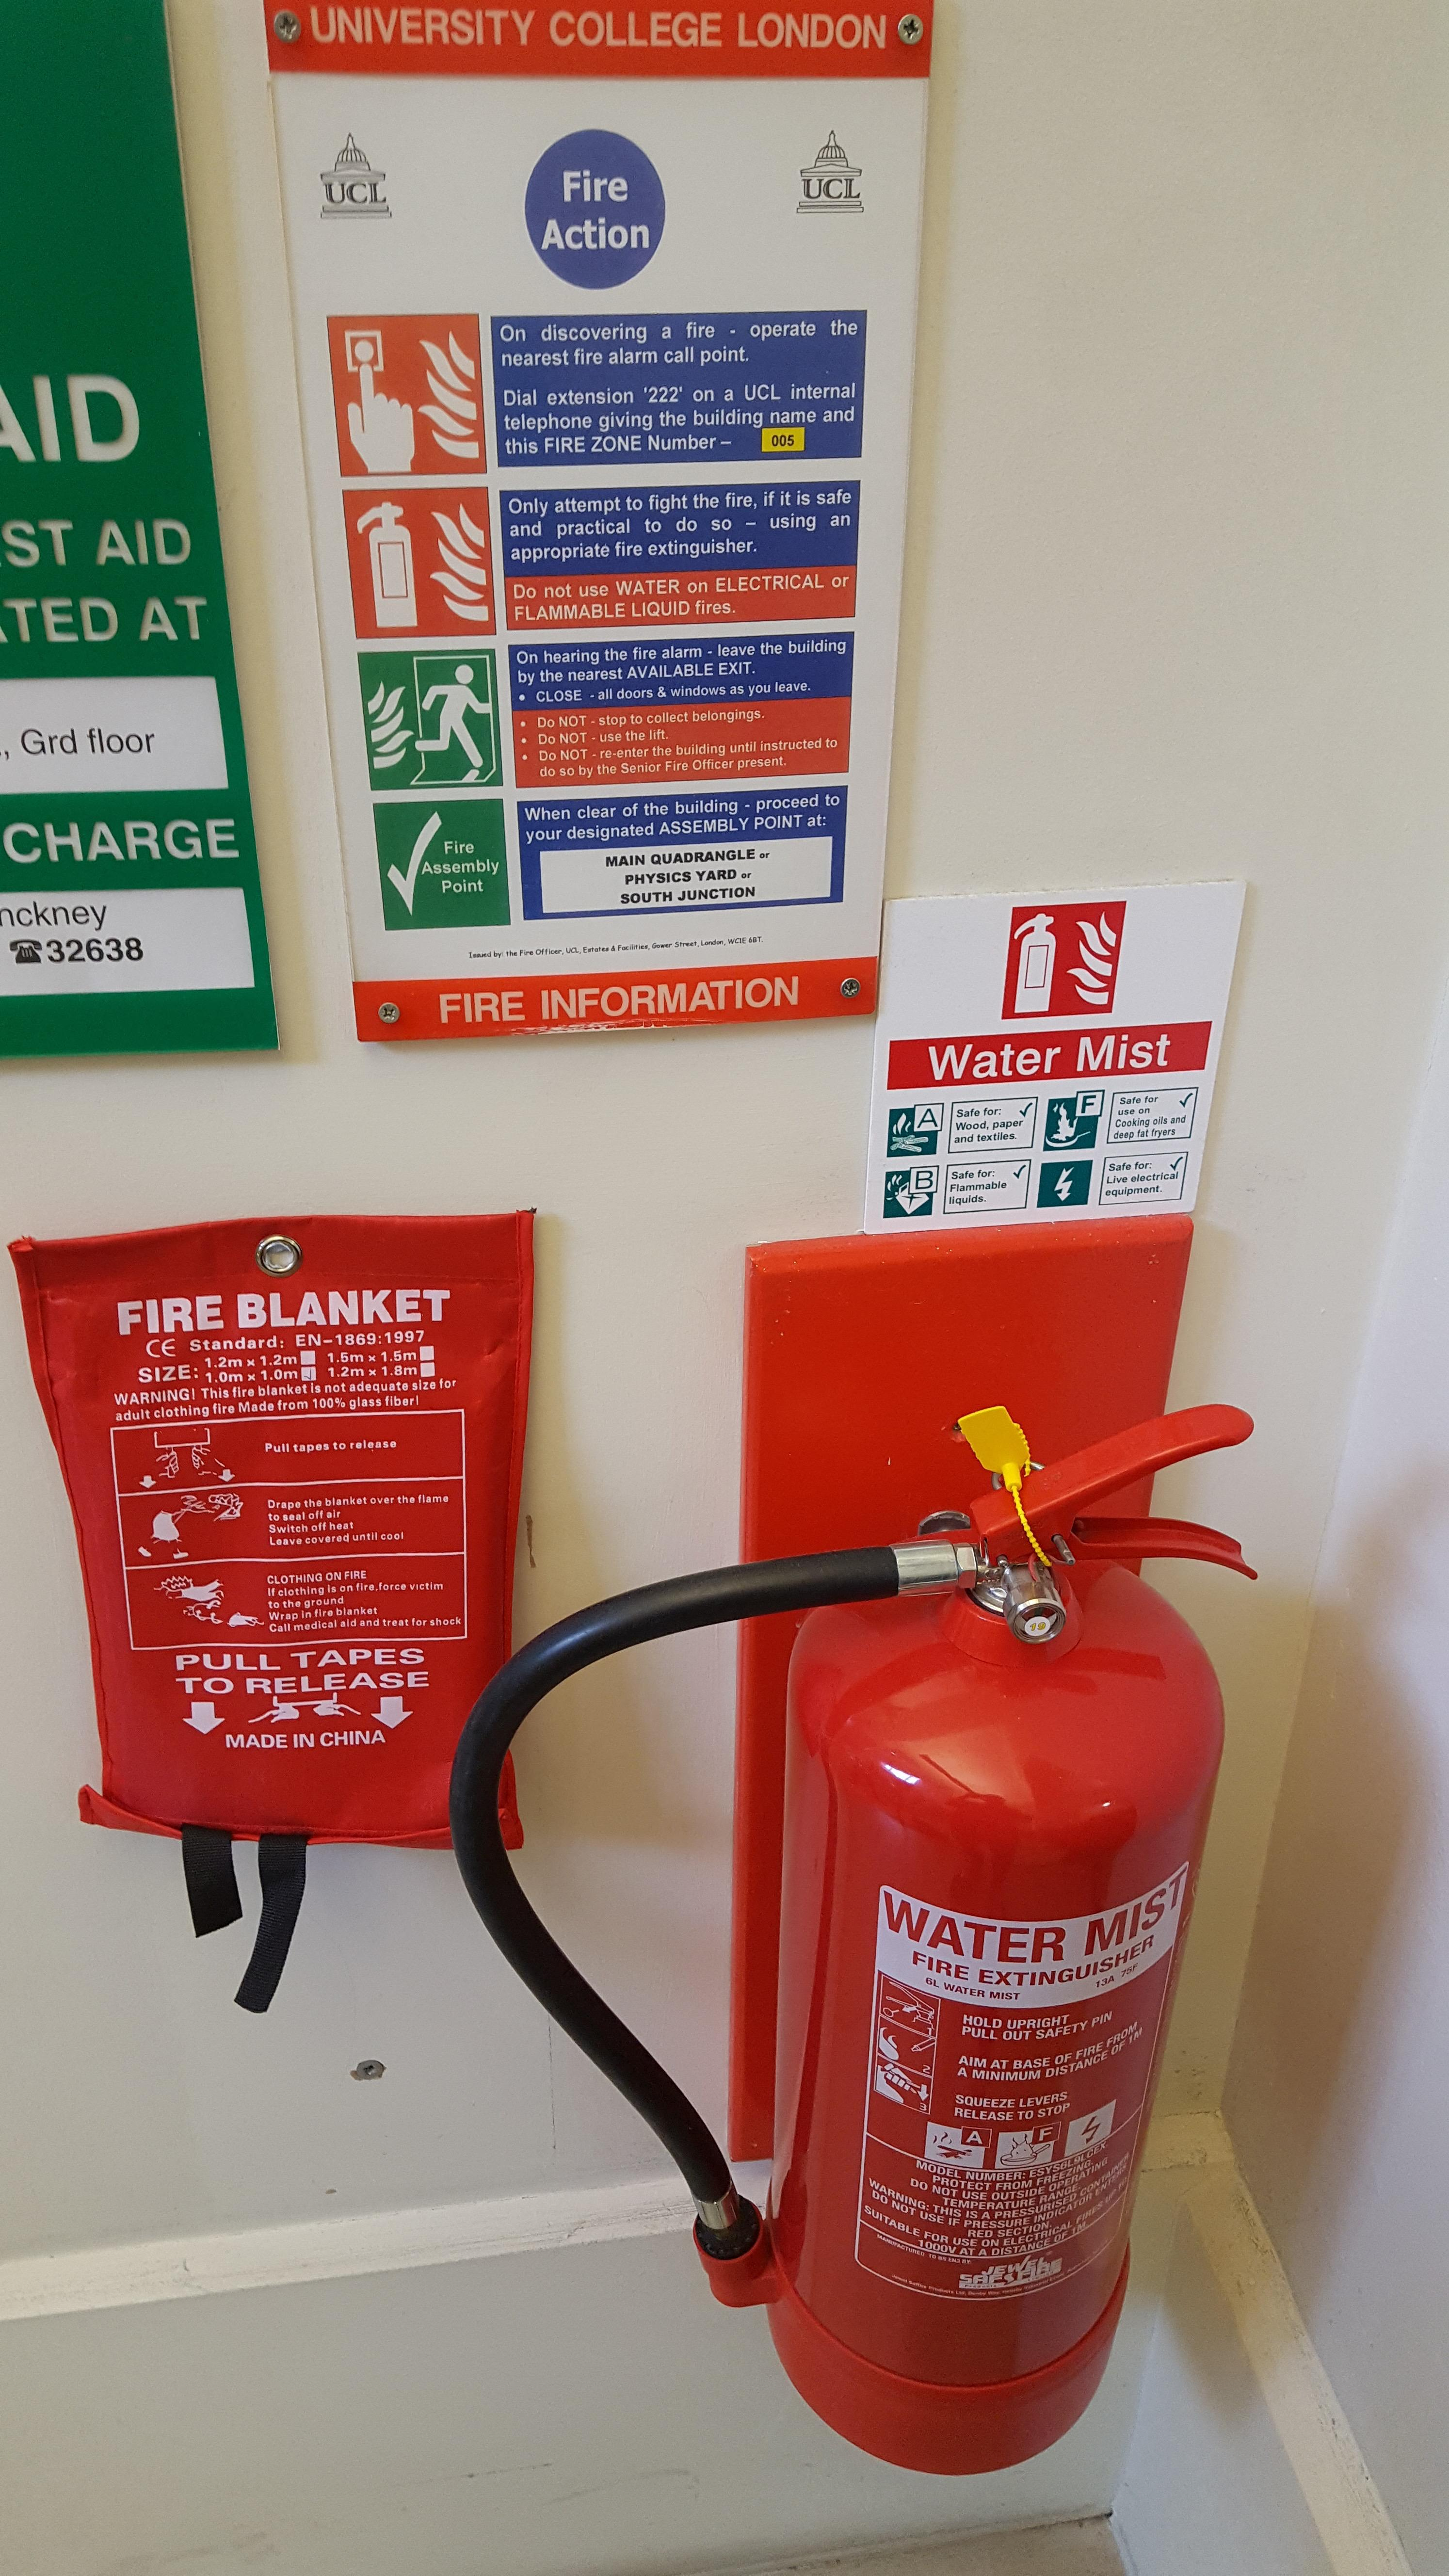blanket: (7, 1207, 536, 1852)
extinguisher: (449, 1403, 1260, 2479)
